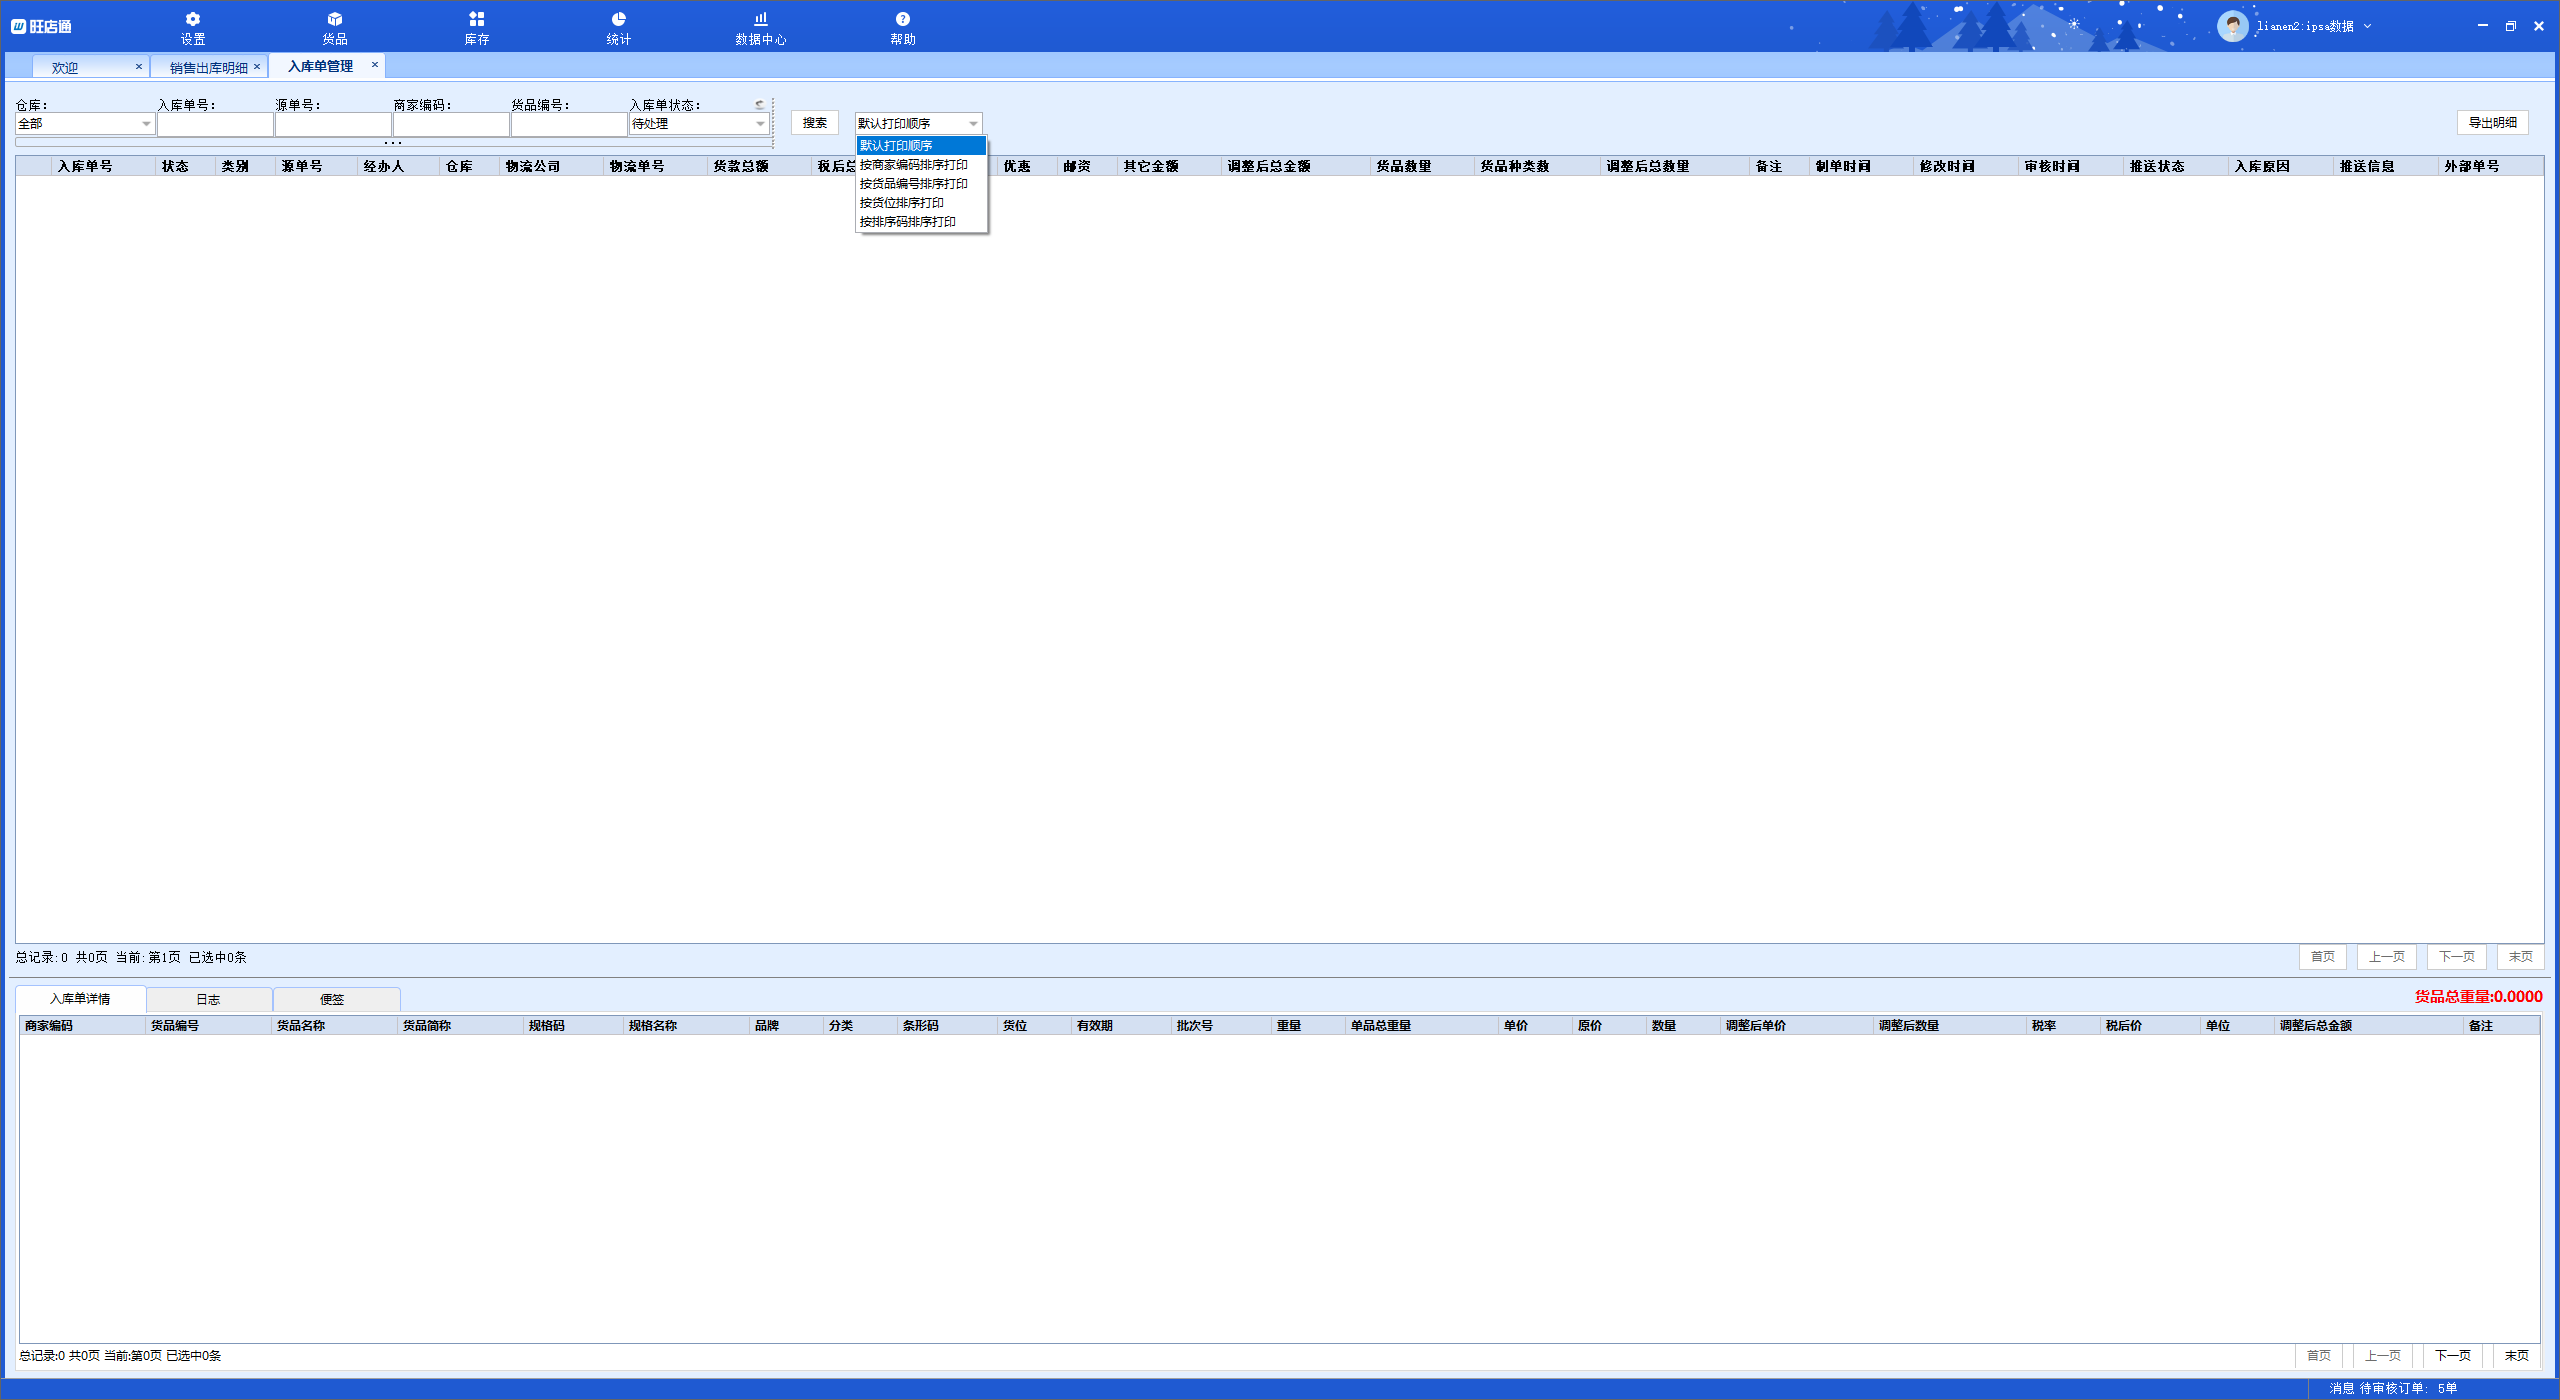character: (857, 116, 969, 233), (12, 950, 255, 966), (2327, 1379, 2481, 1398), (2413, 986, 2548, 1005), (16, 1350, 226, 1362), (1222, 153, 1319, 176), (1602, 155, 1700, 176), (2229, 155, 2296, 178), (2257, 19, 2353, 34), (2279, 1017, 2355, 1036), (1374, 157, 1441, 178), (498, 153, 571, 172), (1876, 1016, 1948, 1034), (2460, 112, 2526, 133), (388, 95, 459, 114), (1914, 159, 1984, 178), (2126, 155, 2196, 174), (286, 57, 353, 76), (45, 991, 126, 1007), (1720, 1017, 1793, 1034), (1119, 157, 1189, 174), (1483, 155, 1553, 172), (712, 159, 776, 178), (2438, 155, 2507, 172), (16, 1017, 90, 1033), (141, 1019, 215, 1034), (1348, 1017, 1422, 1033), (2339, 155, 2393, 176), (167, 60, 245, 74), (2024, 157, 2084, 174), (276, 157, 329, 176), (279, 1017, 333, 1036), (402, 1017, 460, 1034), (272, 97, 329, 114), (1814, 159, 1876, 174), (57, 157, 117, 172), (1570, 1016, 1608, 1040), (514, 97, 572, 112), (29, 16, 76, 34), (438, 157, 484, 176), (609, 159, 671, 172), (181, 991, 241, 1005), (359, 159, 412, 174), (750, 1016, 793, 1034), (2101, 1017, 2148, 1034), (734, 31, 790, 45), (1057, 155, 1096, 174), (629, 97, 702, 107), (521, 1016, 574, 1029), (626, 1019, 684, 1031), (10, 116, 55, 131), (10, 98, 60, 112), (995, 1019, 1045, 1033), (1072, 1017, 1122, 1031), (1171, 1017, 1221, 1031), (2500, 1348, 2536, 1367), (902, 1017, 941, 1034), (1753, 155, 1786, 176), (2463, 1017, 2507, 1033), (824, 1014, 859, 1033), (2365, 1348, 2407, 1364), (1271, 1016, 1307, 1033), (2296, 1347, 2332, 1364), (2438, 1347, 2474, 1364), (631, 116, 676, 129), (157, 97, 215, 107), (219, 155, 253, 172), (2369, 948, 2407, 964), (2203, 1014, 2234, 1033), (155, 157, 191, 172), (1002, 159, 1038, 174), (1648, 1019, 1684, 1034), (814, 157, 853, 171), (884, 34, 915, 52), (309, 993, 360, 1003), (1500, 1019, 1534, 1034), (464, 33, 493, 50), (2031, 1017, 2058, 1034), (315, 33, 353, 45), (2439, 950, 2479, 960), (47, 60, 79, 72), (609, 34, 640, 47), (2505, 952, 2534, 964), (802, 116, 829, 128), (179, 36, 209, 47), (2308, 952, 2338, 962)
icon: (2215, 9, 2251, 43), (465, 9, 486, 28), (750, 9, 771, 28), (610, 9, 629, 28), (326, 10, 345, 28), (9, 17, 28, 34), (893, 10, 912, 28), (184, 10, 202, 28), (248, 59, 264, 74), (2503, 17, 2519, 33), (2531, 17, 2546, 33), (138, 116, 153, 129), (752, 116, 767, 129), (752, 97, 767, 110), (2474, 21, 2488, 34), (367, 57, 381, 69), (967, 116, 979, 129), (131, 60, 145, 72), (2363, 16, 2376, 28)
